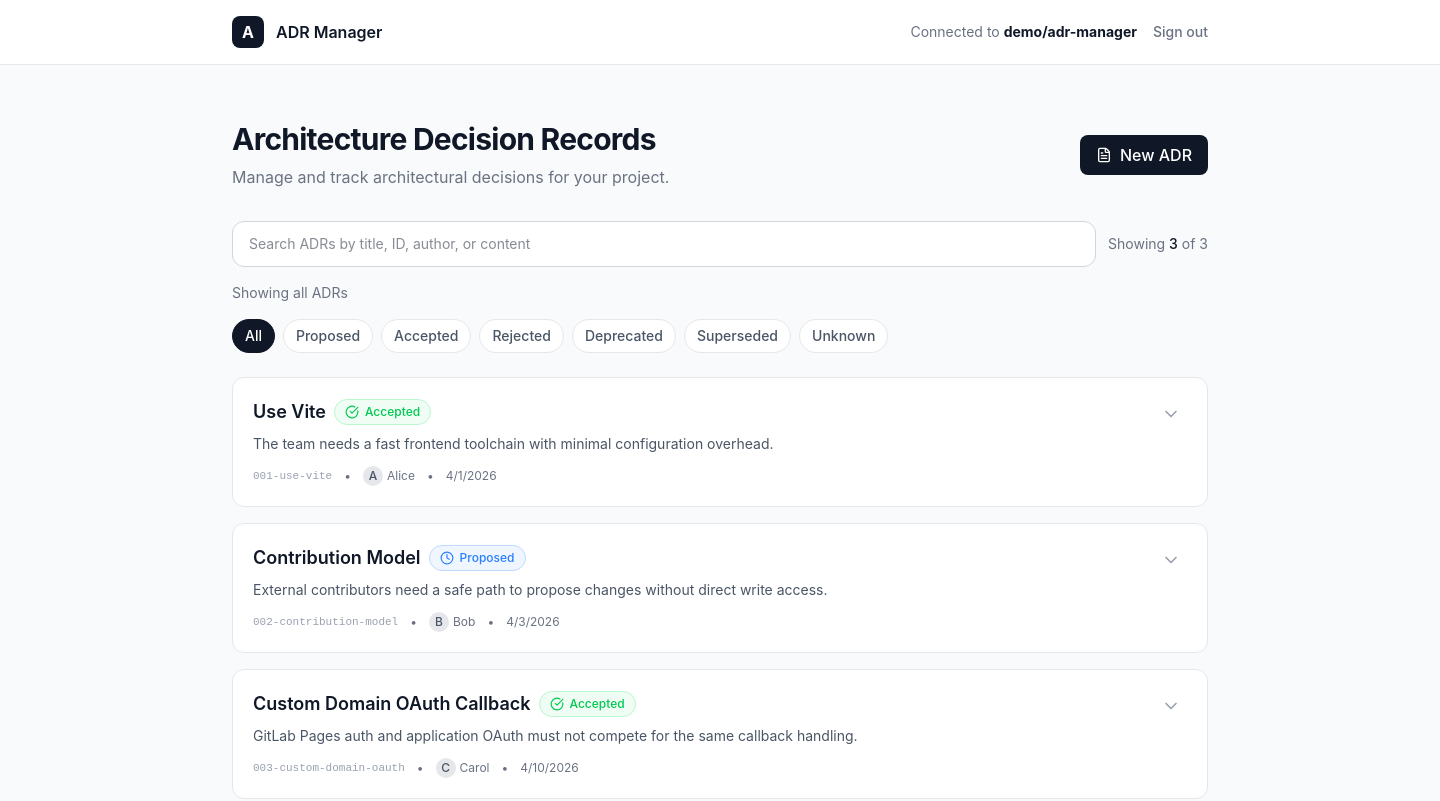
Test case: App in dev mode › bypasses OAuth and renders mock ADR data
The width and height of the screenshot is (1440, 801).
expect the text "Connected to demo/adr-manager" is shown: met, box 910,22 -> 1137,42
Click the heading "Use Vite" at (290,412), box 253,398 -> 326,426
(page scrolled)
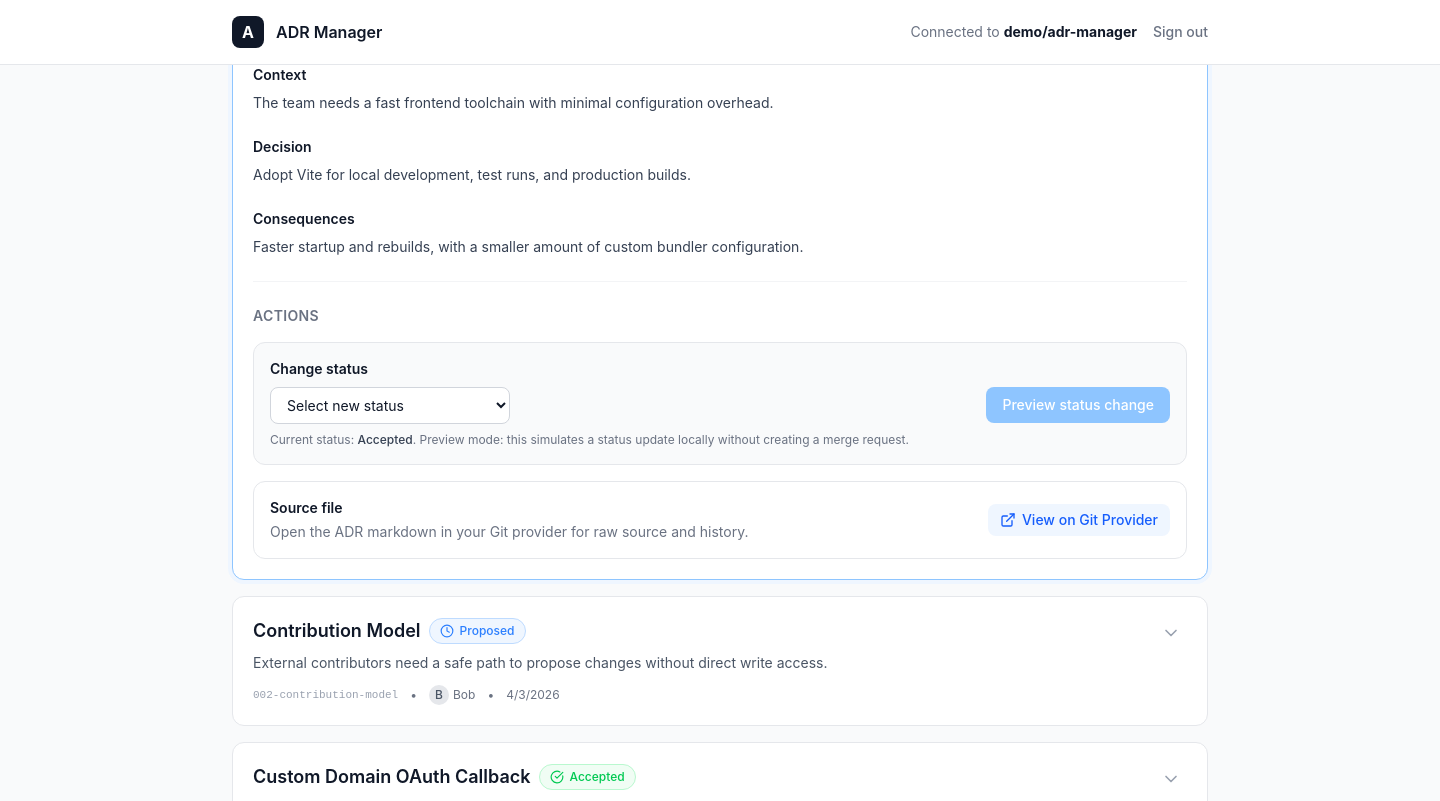
expect the button "Preview status change" is shown: met, box 986,387 -> 1170,423
